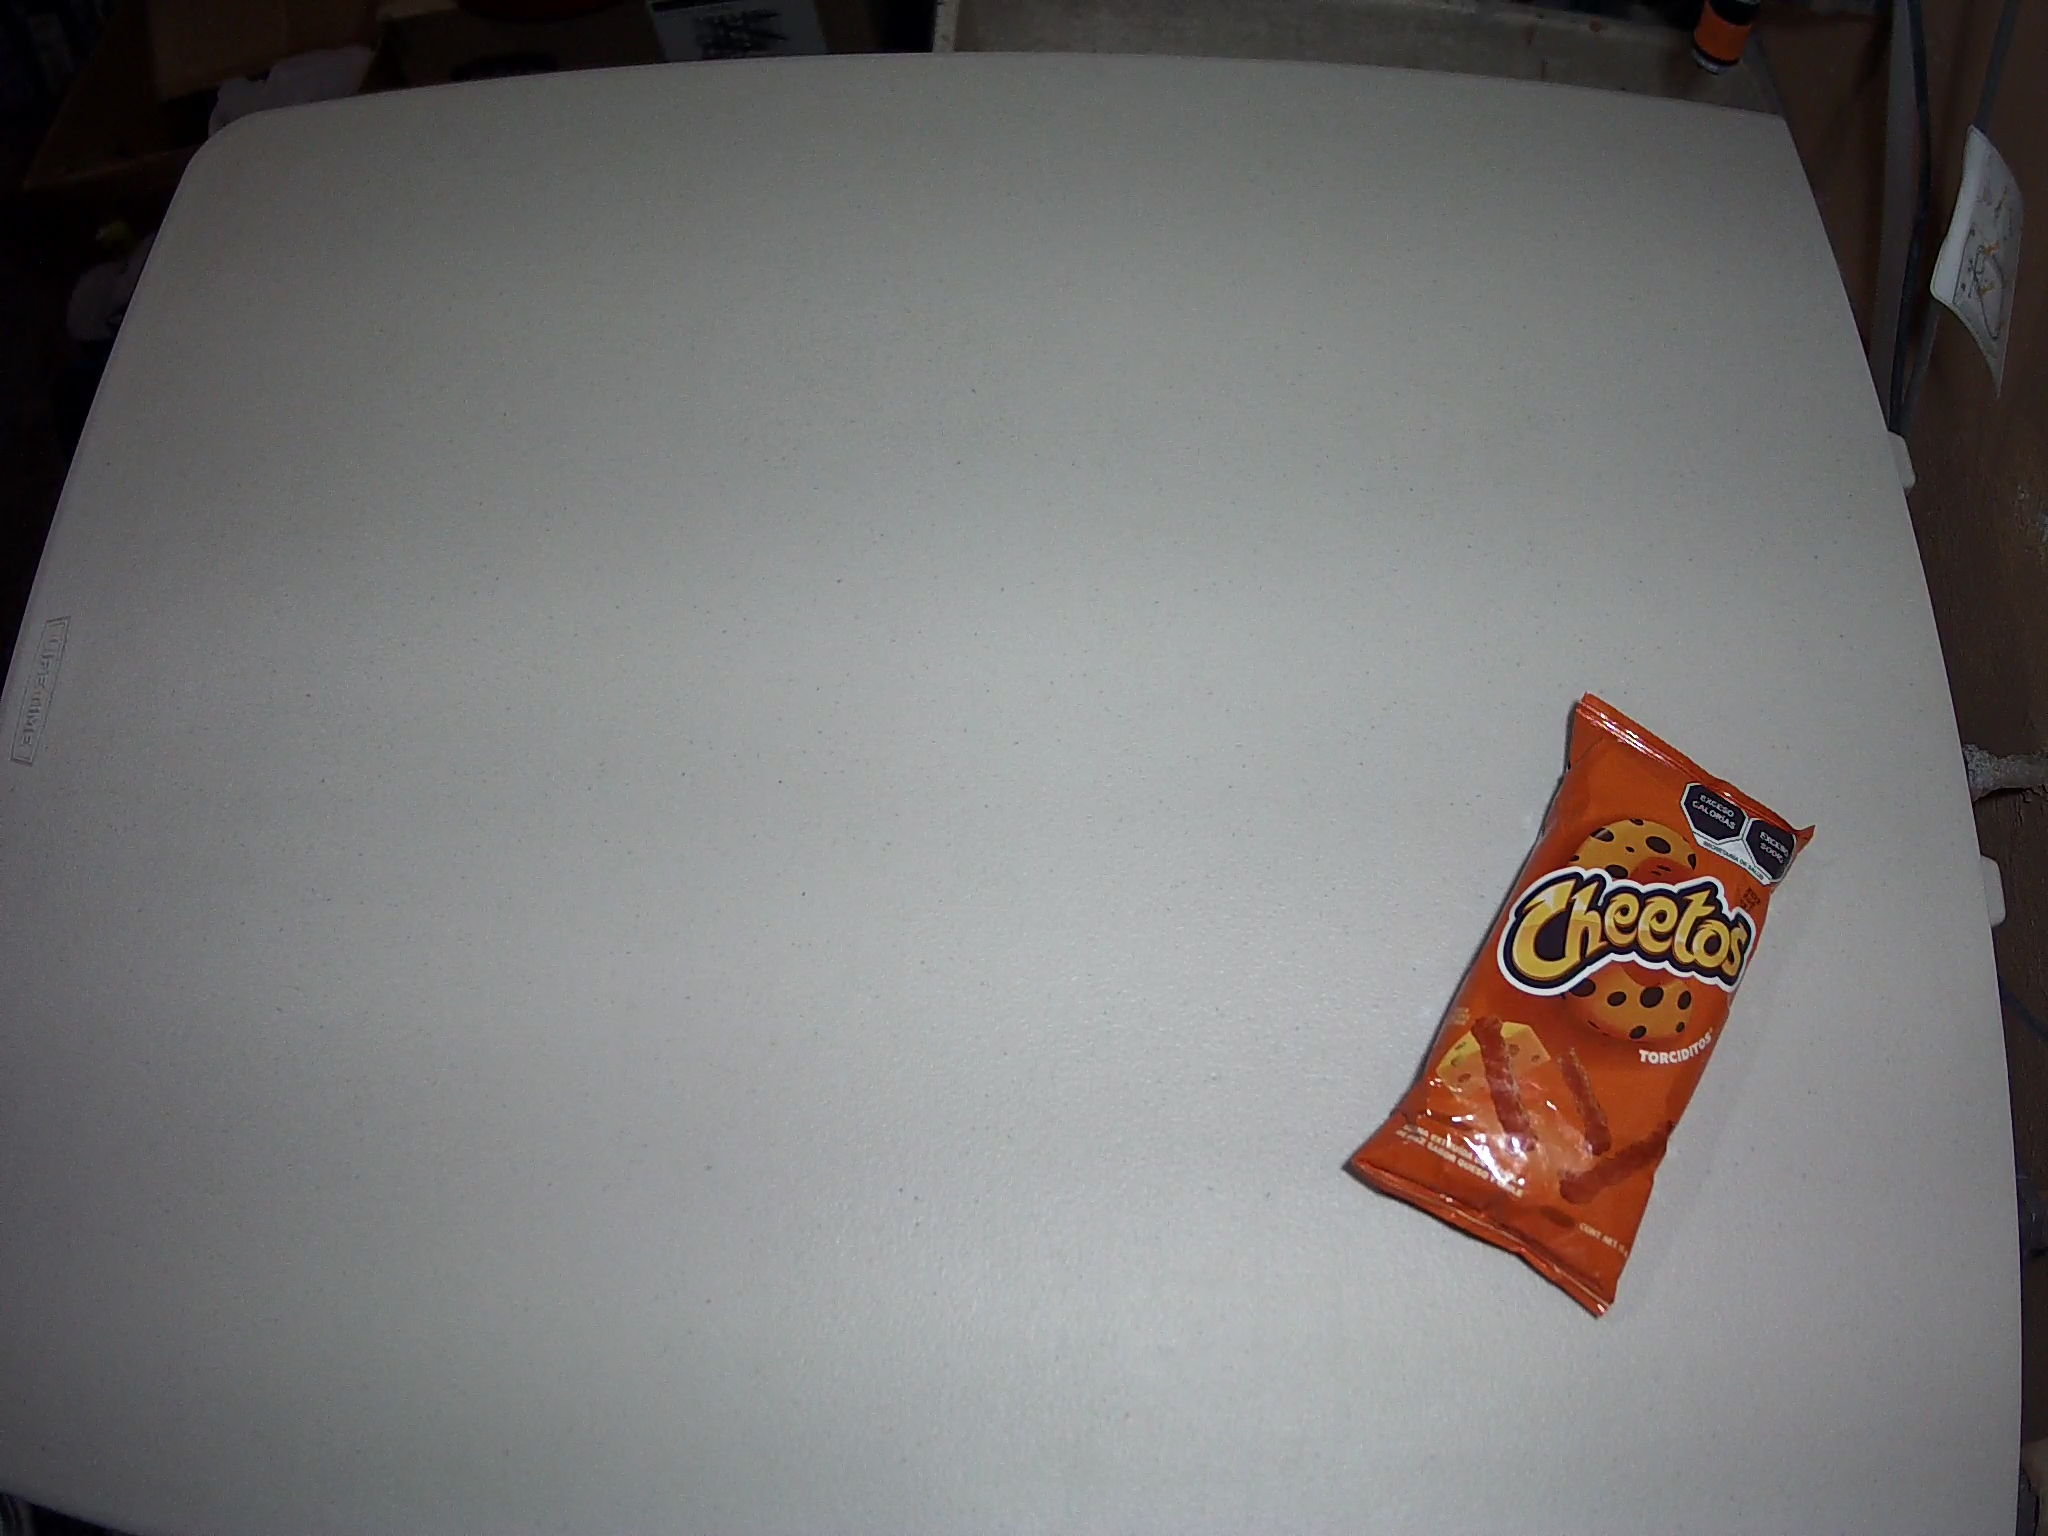CheetosTorciditos_55_F: (1347, 695, 1816, 1310)
